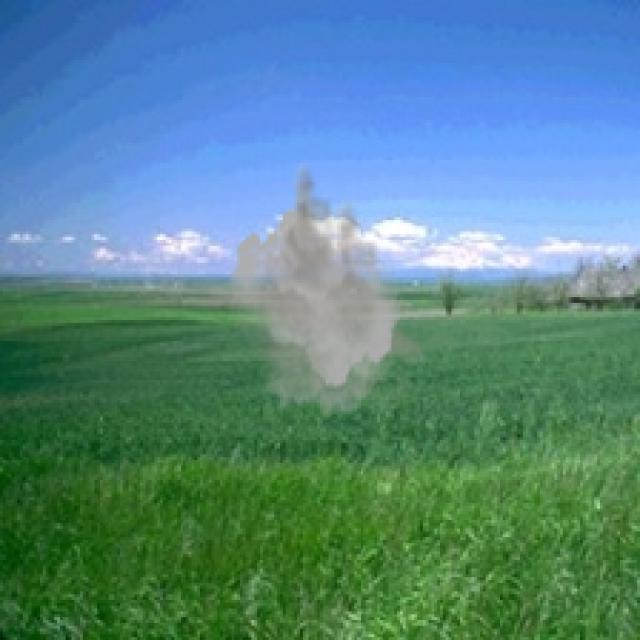Smoke: (226, 157, 428, 423)
